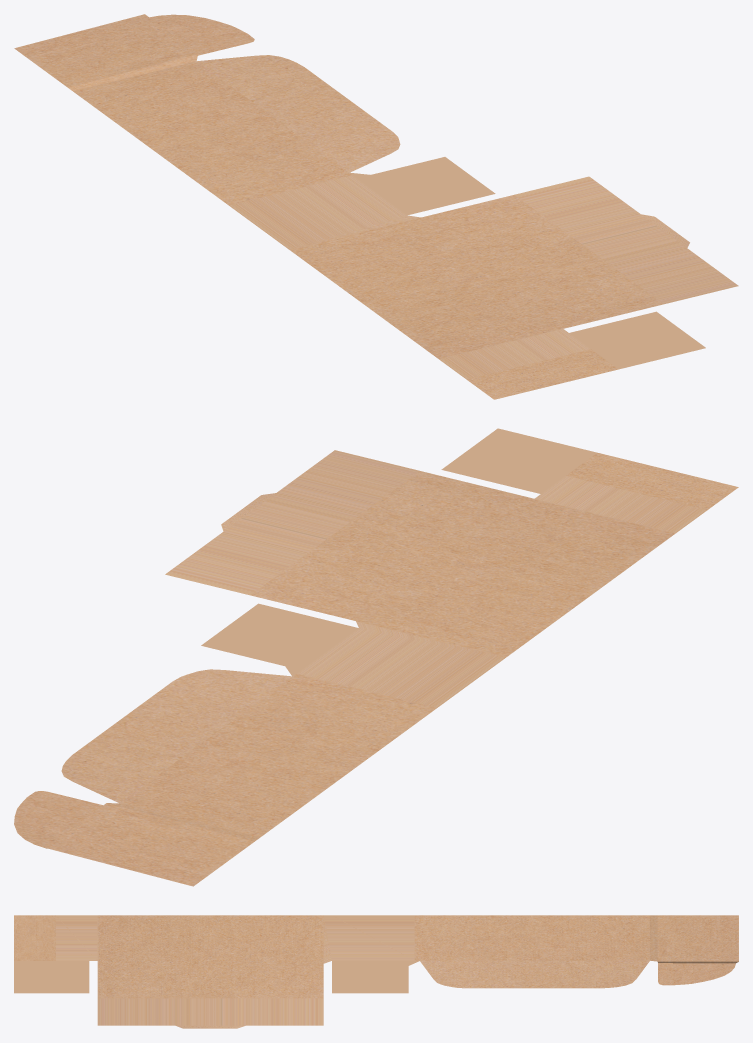
Rendered from caja1.gltf.
3 renders of one model, top to bottom at view 1: azimuth 30°, elevation 25°; view 2: azimuth 150°, elevation 25°; view 3: azimuth 270°, elevation 25°, orthographic. The views are drawn at different scales.
Parts seen in each view (by area): view 1: Plane; view 2: Plane; view 3: Plane.
Part boxes in pixels (bbox=[...]): Plane: bbox=[14, 14, 738, 399]; Plane: bbox=[14, 428, 738, 886]; Plane: bbox=[14, 915, 738, 1028].
Size of the model in its own units: 1.42 by 0.00999 by 3.84.
